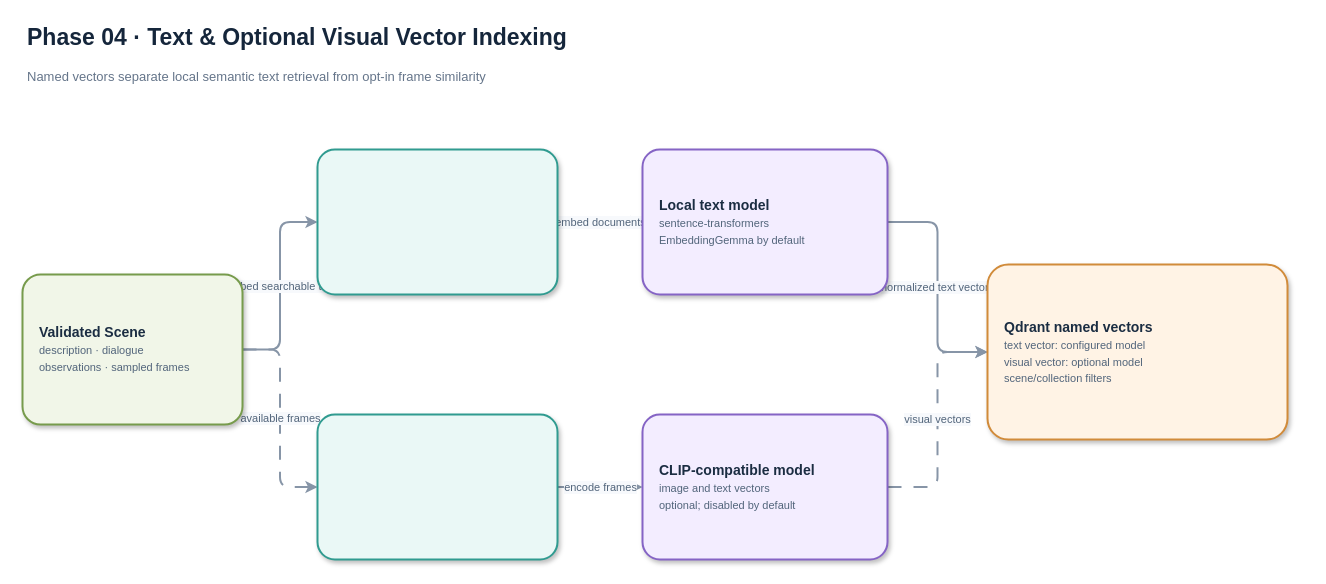
Image size: 1326x584. Some labels were removed from this diagram. The centre of each missing label's shape, as x and y in pixels:
"Frame representation sampled scene frames only when visual is enabled" goes at (x=438, y=488).
"Text representation scene description + typed observations + dialogue" goes at (x=438, y=223).
